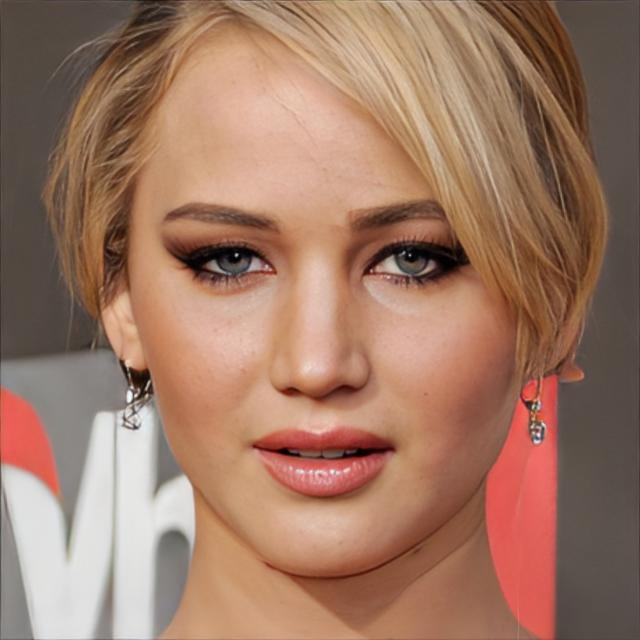neutral: (132, 11, 534, 582)
